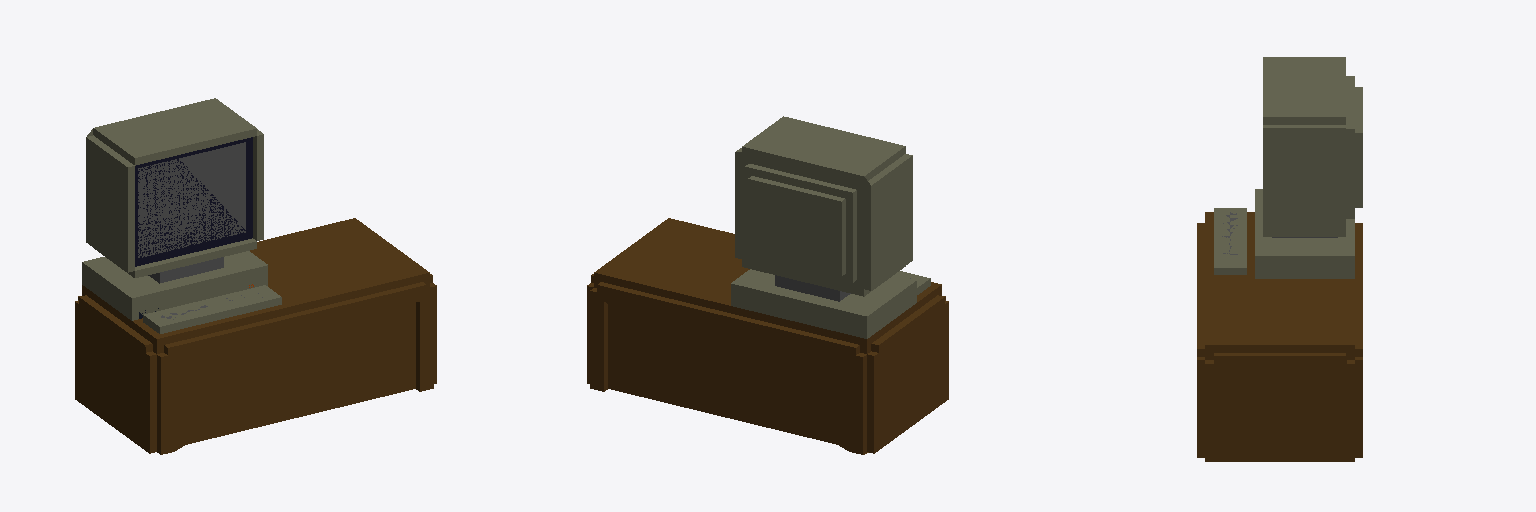
File: PcANdTisch.obj
3 renders of one model, left to right at view 1: azimuth 30°, elevation 25°; view 2: azimuth 150°, elevation 25°; view 3: azimuth 270°, elevation 25°, orthographic.
Parts seen in each view (by area): view 1: PCAndTisch; view 2: PCAndTisch; view 3: PCAndTisch.
Part boxes in pixels (left/top/right/bottom): PCAndTisch: left=75, top=98, right=436, bottom=454; PCAndTisch: left=587, top=116, right=948, bottom=454; PCAndTisch: left=1197, top=57, right=1362, bottom=461.
Bounding box in the file's own units: 2.5 × 2.25 × 1.25.